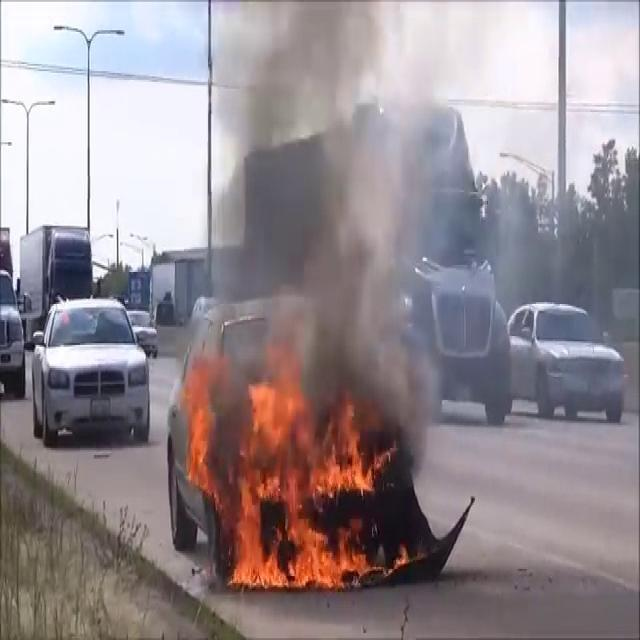Fire: (229, 362, 403, 602), (177, 349, 220, 504)
Smoke: (188, 1, 514, 419)
